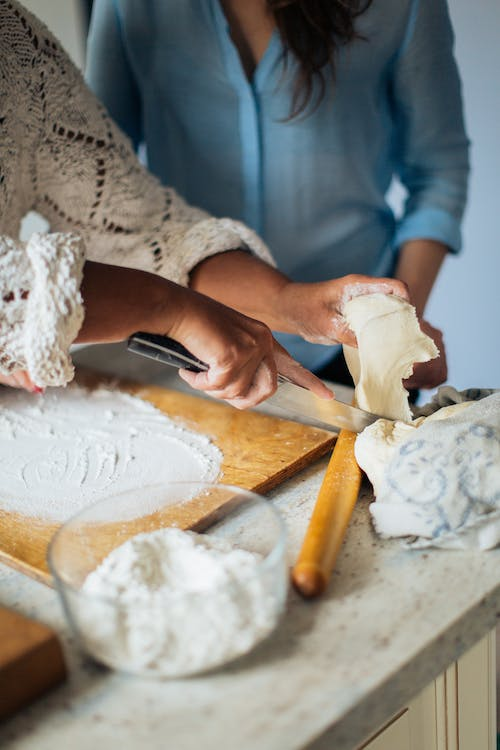knife: (125, 327, 396, 435)
